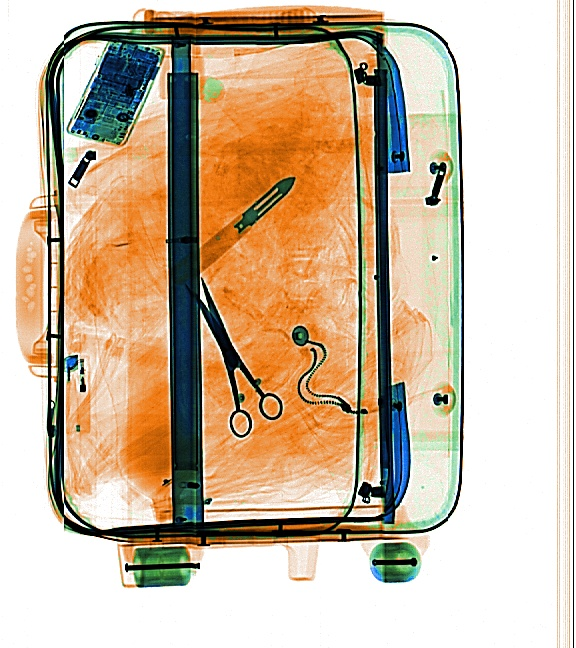keypad_mobile: (66, 34, 166, 145)
knife: (233, 173, 300, 234)
lighter: (58, 353, 96, 440)
scissors: (182, 274, 287, 440)
